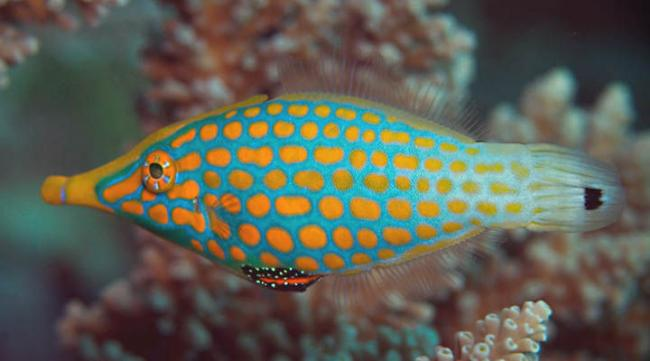fish: (40, 90, 625, 295)
